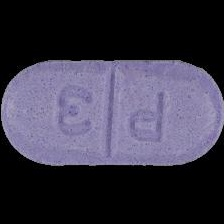50090-1388: (0, 0, 224, 224)
